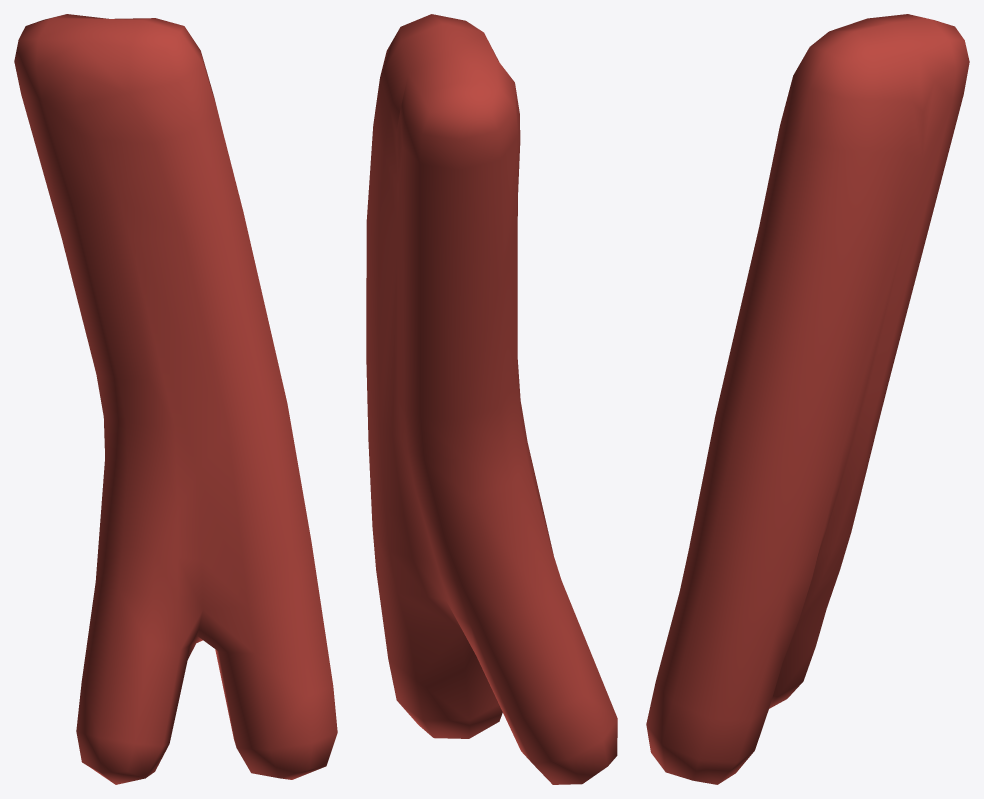
Rendered from musculos-tendon-sheath-of-extensors-carpi-radialis-l.glb.
The picture shows the model from 3 angles, left to right: view 1: azimuth 30°, elevation 25°; view 2: azimuth 150°, elevation 25°; view 3: azimuth 270°, elevation 25°; orthographic projection. The views are drawn at different scales.
Visible parts, largest first — view 1: Tendon sheath of extensors carpi radialis.l; view 2: Tendon sheath of extensors carpi radialis.l; view 3: Tendon sheath of extensors carpi radialis.l.
Part boxes in pixels (<box>): Tendon sheath of extensors carpi radialis.l: <box>14,14,337,784</box>; Tendon sheath of extensors carpi radialis.l: <box>366,14,617,784</box>; Tendon sheath of extensors carpi radialis.l: <box>646,14,969,784</box>.
Bounding box in the file's own units: 0.0105 × 0.0323 × 0.0133.
